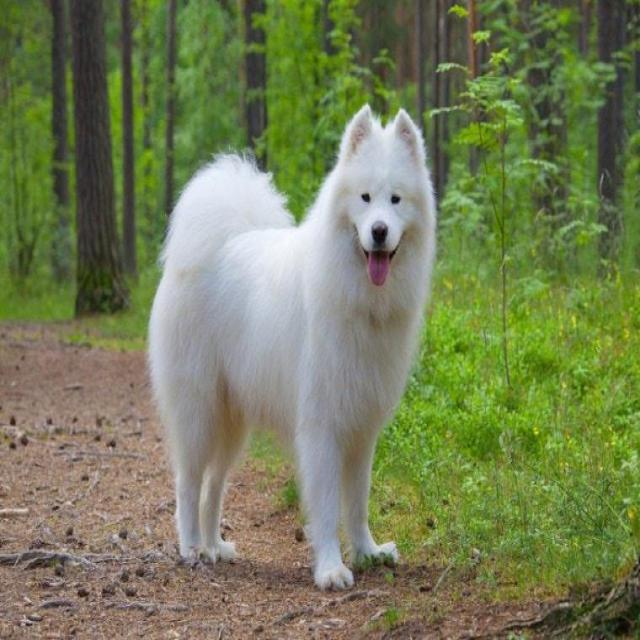Dog: (329, 95, 441, 295)
